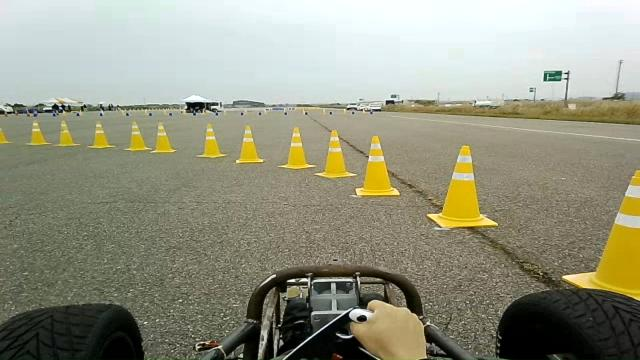yellow cone: (561, 169, 639, 301), (426, 145, 498, 228), (354, 135, 400, 196), (314, 130, 358, 178), (277, 126, 316, 169), (234, 125, 264, 163), (196, 123, 228, 158), (150, 121, 177, 153), (124, 121, 151, 151), (87, 120, 115, 148), (53, 119, 80, 147), (26, 120, 52, 145), (0, 127, 13, 144)
